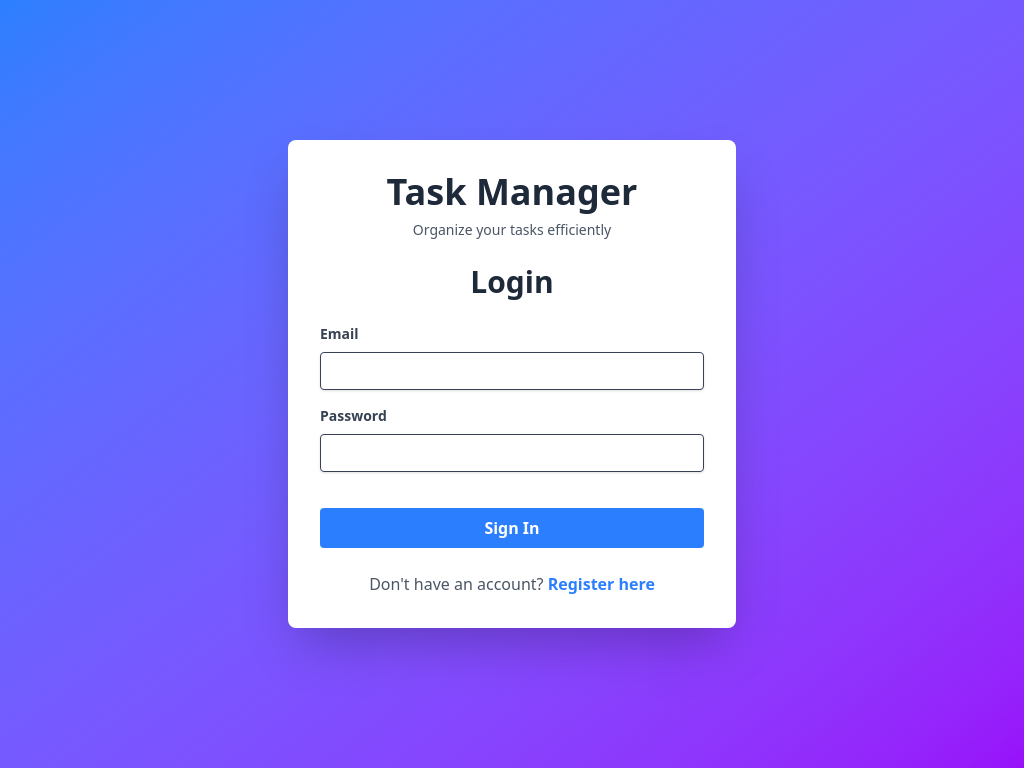
Scenario: Login Component › displays error message on failed login with invalid credentials
This screenshot has width=1024, height=768.
Type "test@example.com" into the field labelled "Email".
click(512, 371); type("test@example.com")  # box [320,352,704,390]
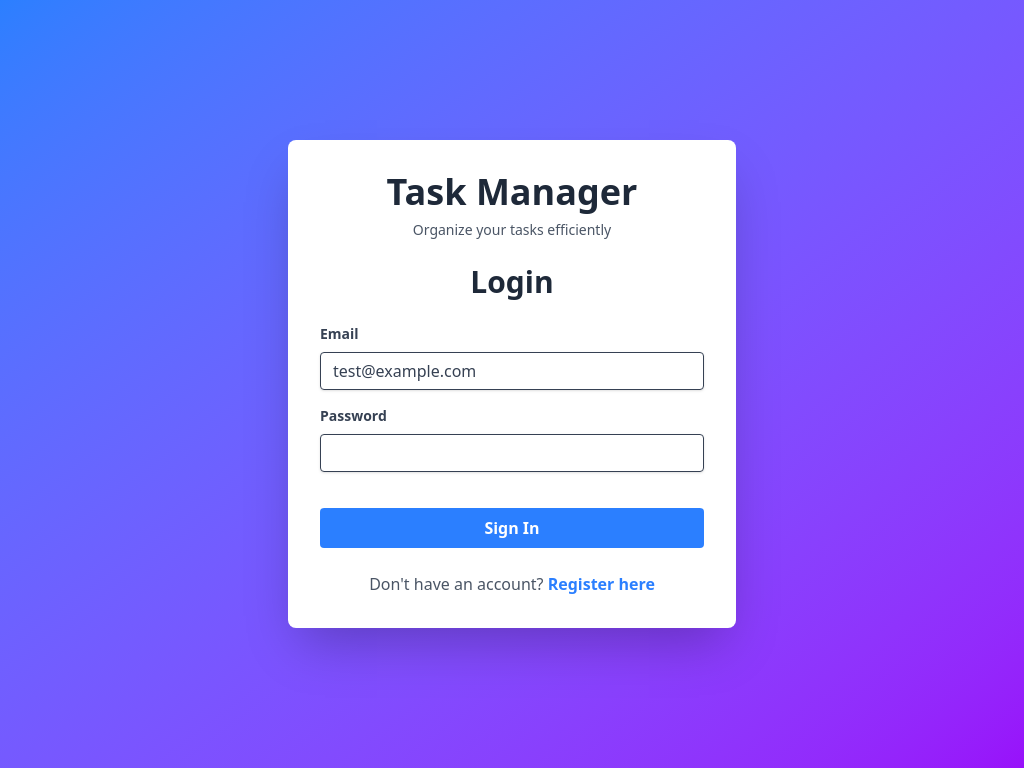
Type "wrongpassword" into the password field labelled "Password".
click(512, 453); type("wrongpassword")  # box [320,434,704,472]
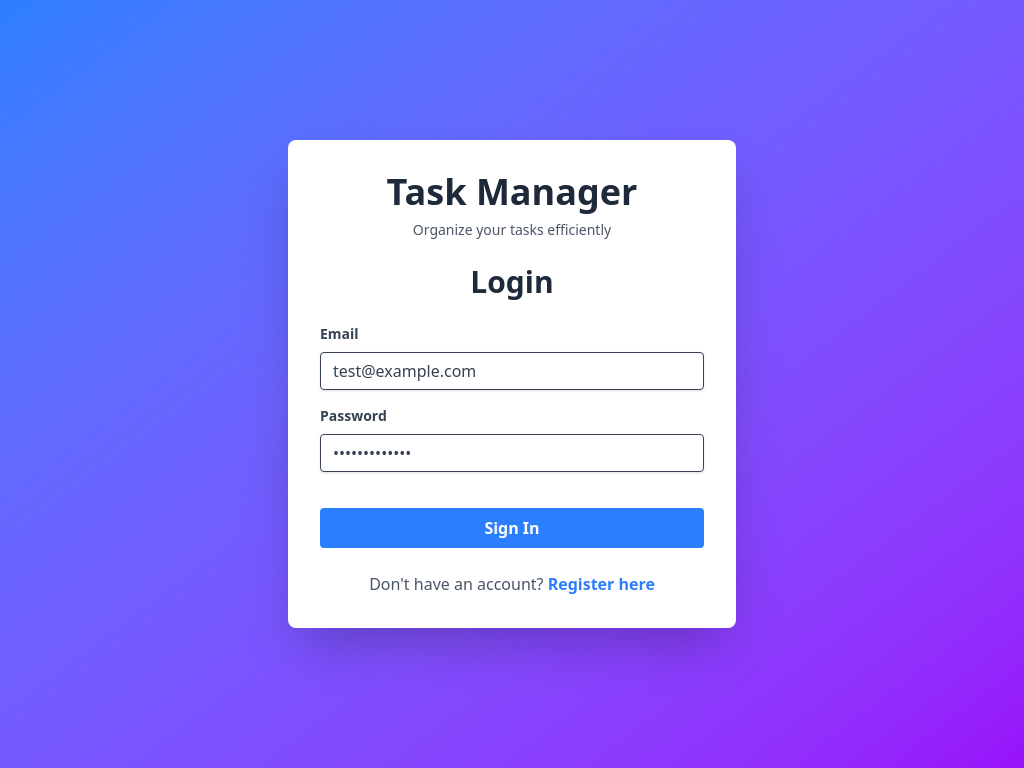
Click the button "Sign In".
click(512, 528)  # box [320,508,704,548]
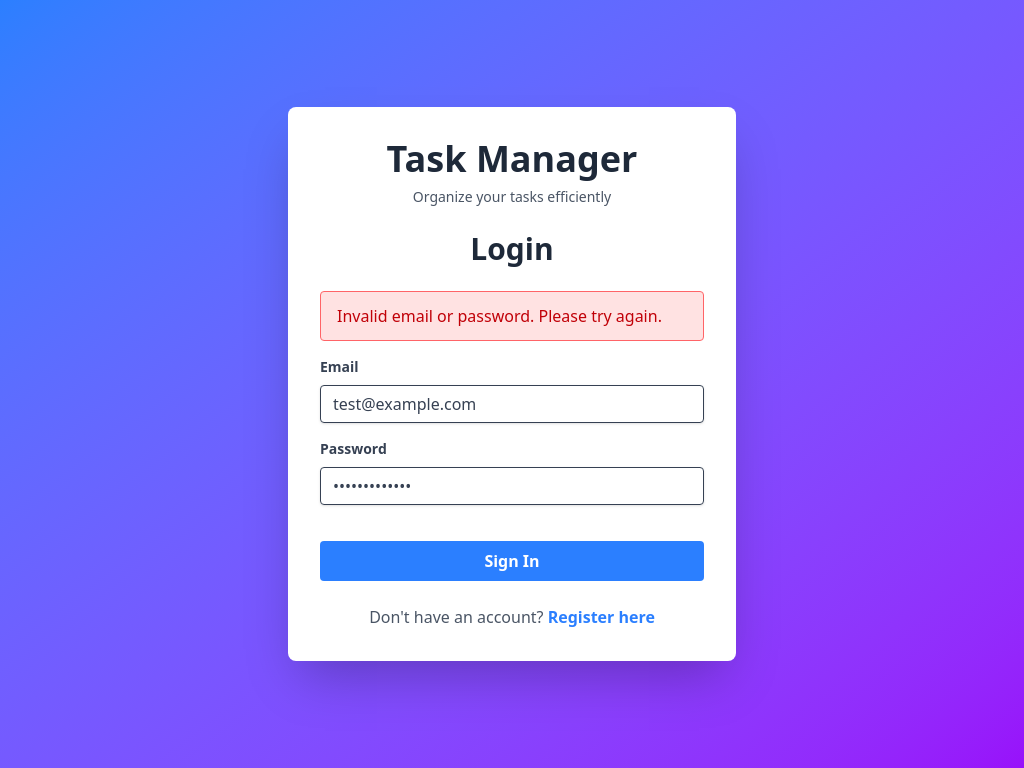
Check: the text "Invalid email or password. Please try again." is shown, box [320,291,704,341]
